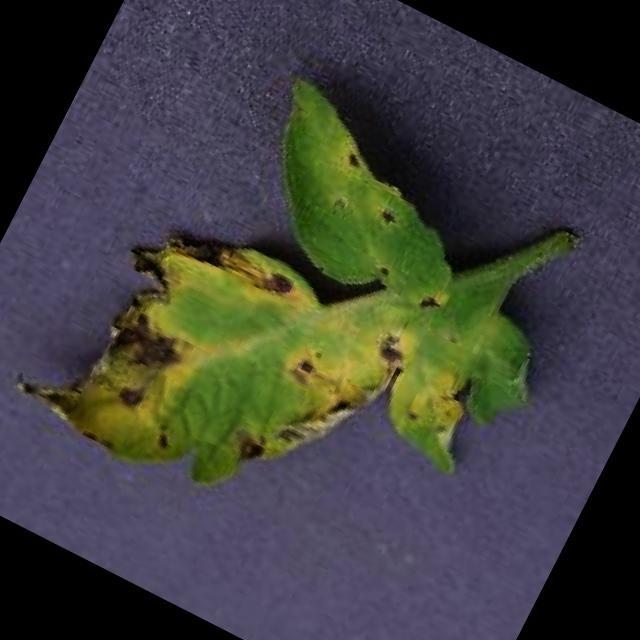Tomato Septoria spot leaf: (3, 18, 608, 610)
